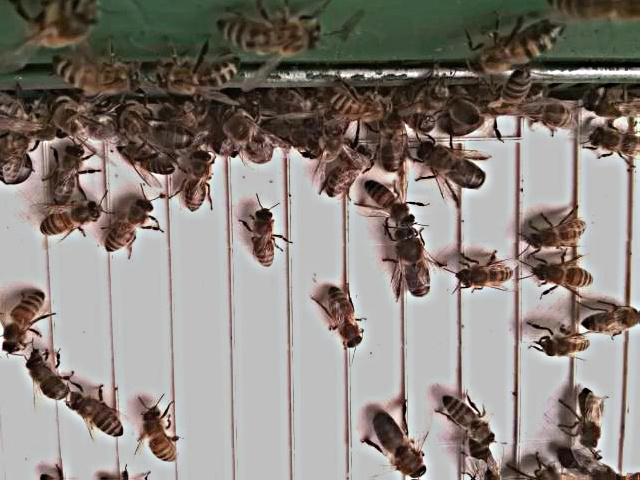Drone: (372, 409, 432, 480), (415, 139, 490, 193), (390, 226, 435, 300)
Worker: (102, 197, 157, 256), (440, 395, 498, 449), (2, 288, 47, 354), (323, 148, 372, 204), (325, 285, 363, 353), (142, 404, 182, 468), (50, 143, 89, 208), (366, 180, 416, 230), (26, 353, 72, 405), (76, 397, 126, 443), (35, 205, 104, 238), (180, 151, 216, 214), (531, 259, 597, 293), (249, 204, 280, 274), (525, 219, 590, 252), (454, 258, 512, 293), (582, 305, 640, 336), (539, 330, 594, 361), (578, 388, 604, 451)
